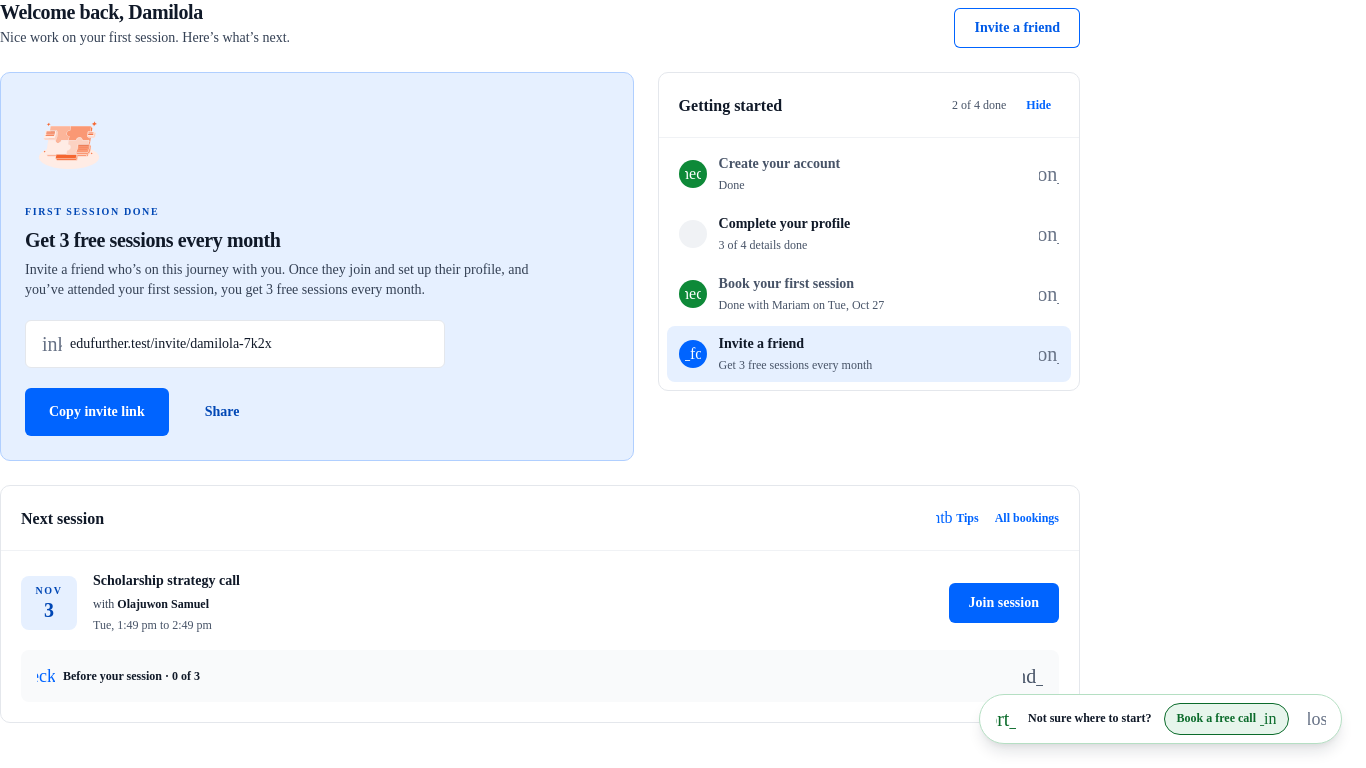
MenteeHomeScreen › after the first session, the new view offers Invite a friend in the header, opening InviteModal
Expected: the heading "Welcome back, Damilola" is shown, x1=0 y1=1 x2=203 y2=23
Expected: the text "First session done" is shown, x1=25 y1=206 x2=159 y2=217
Click the button "Invite a friend" at (1017, 28), box x1=954 y1=8 x2=1080 y2=48
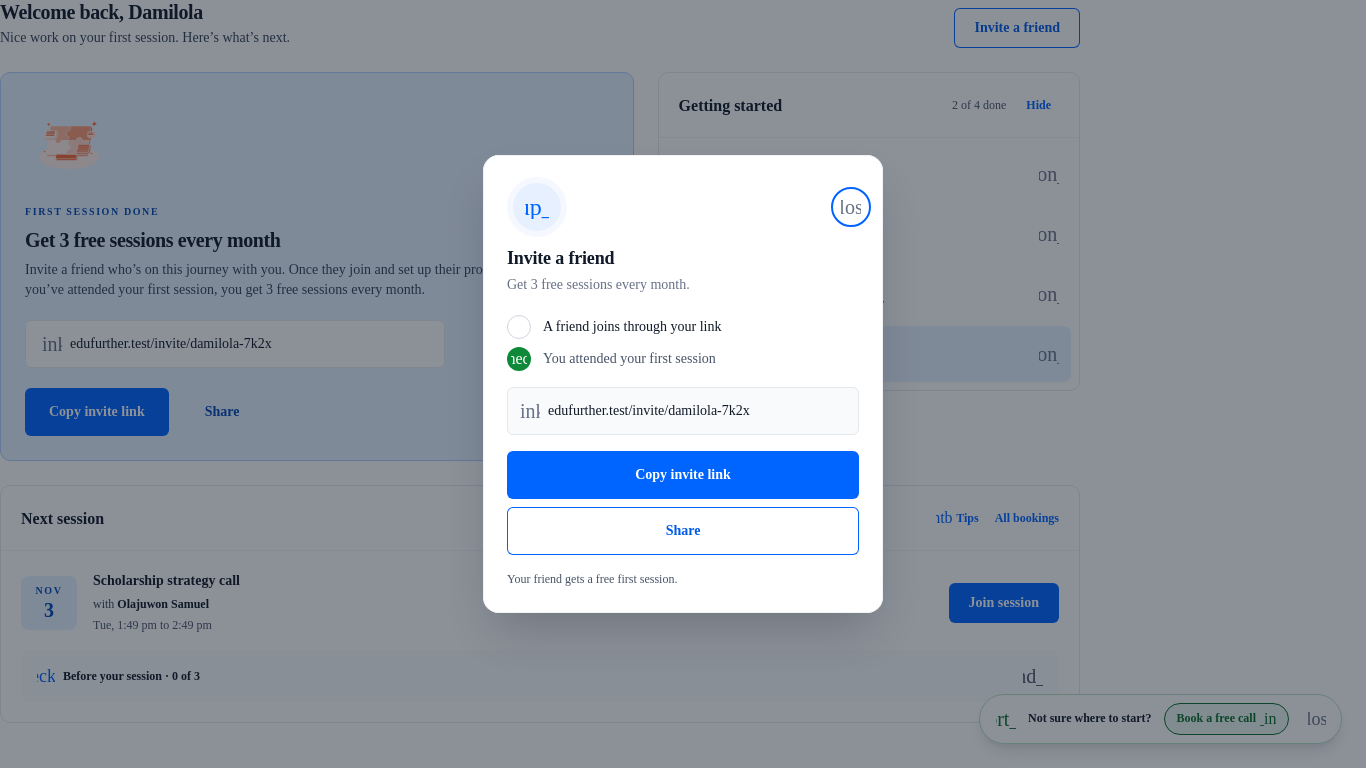
Expected: the dialog "Invite a friend" is shown, x1=483 y1=156 x2=883 y2=613
